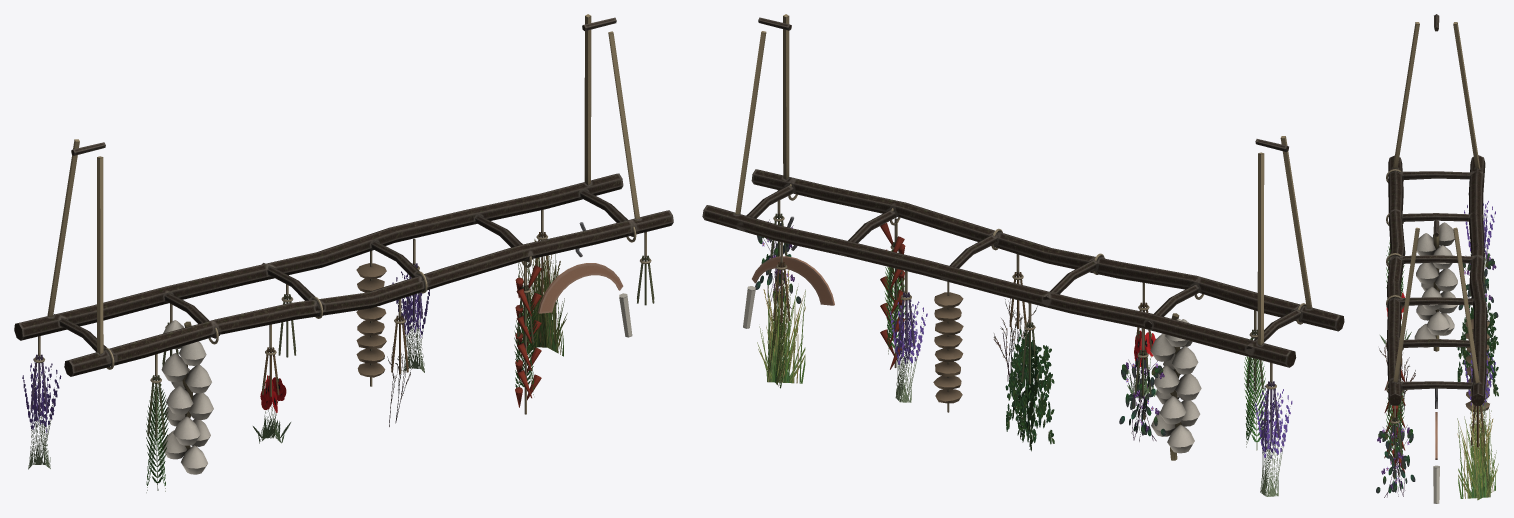
File: HerbBeamRack.fbx
The picture shows the model from 3 angles, left to right: view 1: azimuth 30°, elevation 25°; view 2: azimuth 150°, elevation 25°; view 3: azimuth 270°, elevation 25°; orthographic projection. The views are drawn at different scales.
Parts seen in each view (by area): view 1: HerbBeamRack_Main, HerbBeamRack_Leaves; view 2: HerbBeamRack_Main, HerbBeamRack_Leaves; view 3: HerbBeamRack_Main, HerbBeamRack_Leaves.
Part boxes in pixels (box(x1,y1,x2,y2)): HerbBeamRack_Main: box(14, 14, 673, 474); HerbBeamRack_Leaves: box(22, 239, 567, 492); HerbBeamRack_Main: box(702, 14, 1344, 460); HerbBeamRack_Leaves: box(755, 219, 1292, 496); HerbBeamRack_Main: box(1384, 14, 1489, 503); HerbBeamRack_Leaves: box(1376, 201, 1498, 500).
Bounding box in the file's own units: 762 × 424 × 168.
